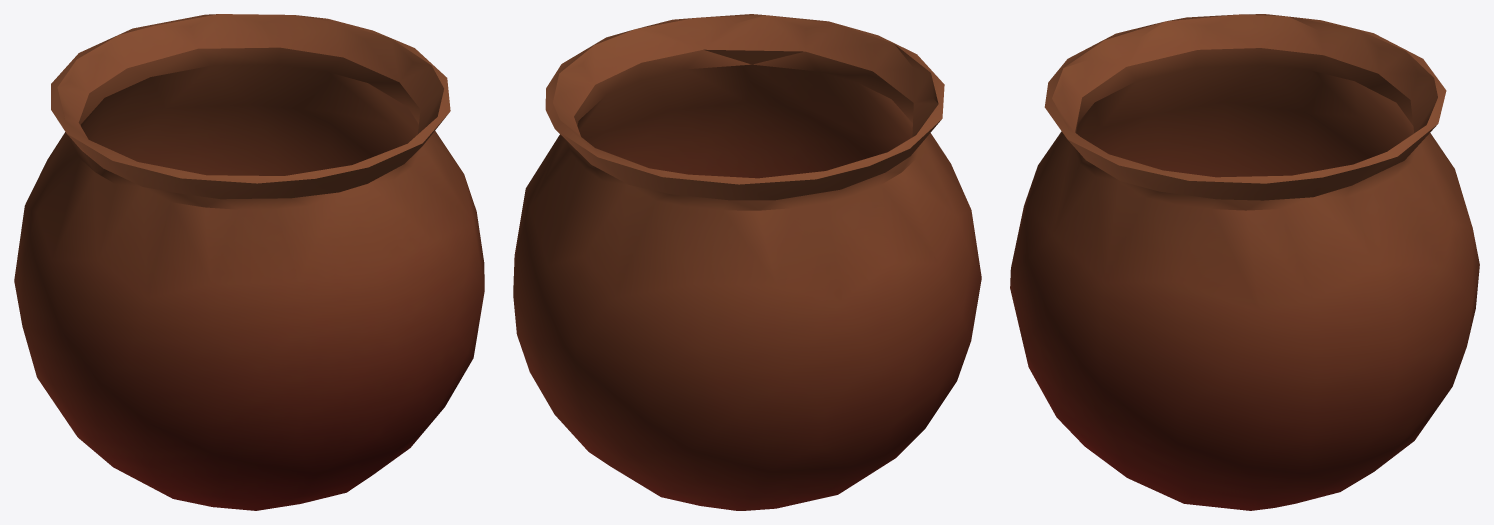
Rendered from SM_Jar.fbx.
3 renders of one model, left to right at view 1: azimuth 30°, elevation 25°; view 2: azimuth 150°, elevation 25°; view 3: azimuth 270°, elevation 25°, orthographic.
Parts seen in each view (by area): view 1: Sphere; view 2: Sphere; view 3: Sphere.
Boxes of the visible parts, x1,y1,x2,y2 form: Sphere: (14,14,484,510); Sphere: (513,14,981,510); Sphere: (1010,14,1479,510).
Size of the model in its own units: 131 by 116 by 131.
